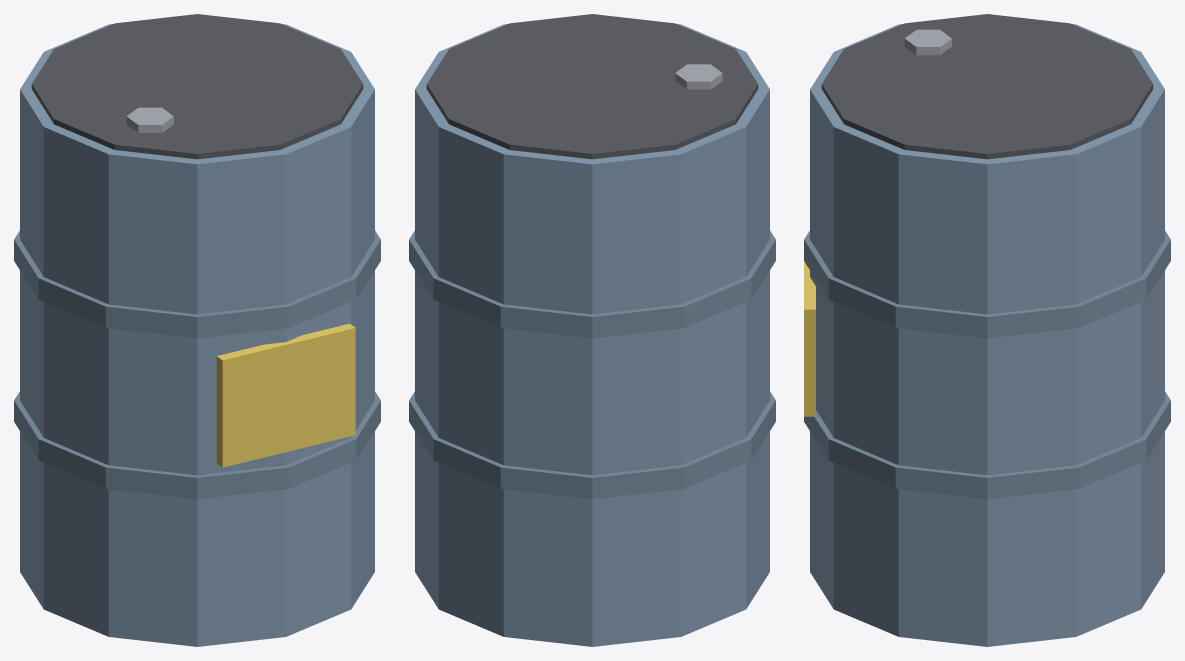
File: prop_barrel.fbx
3 views of the same model, side by side, from view 1: azimuth 30°, elevation 25°; view 2: azimuth 150°, elevation 25°; view 3: azimuth 270°, elevation 25° (orthographic).
Visible parts, largest first — view 1: prop_barrel; view 2: prop_barrel; view 3: prop_barrel.
Boxes of the visible parts, x1,y1,x2,y2 form: prop_barrel: (14,14,380,646); prop_barrel: (409,14,775,646); prop_barrel: (804,14,1170,646).
Bounding box in the file's own units: 0.62 × 0.925 × 0.62.
